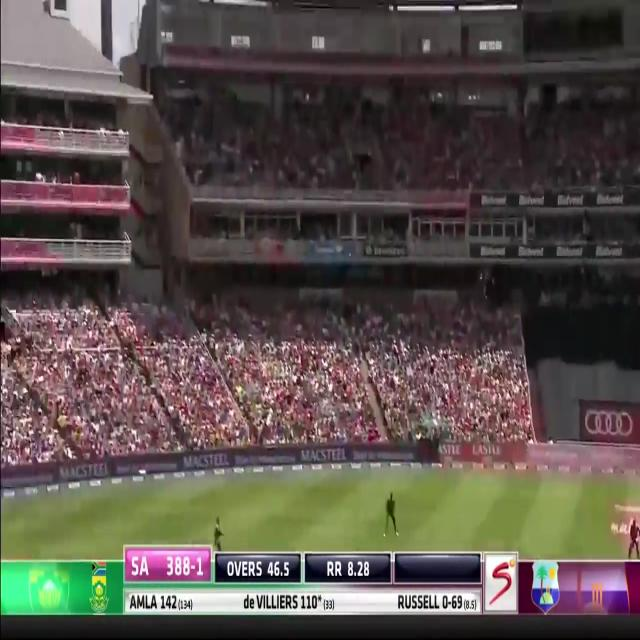Fielder: (629, 516, 640, 560)
